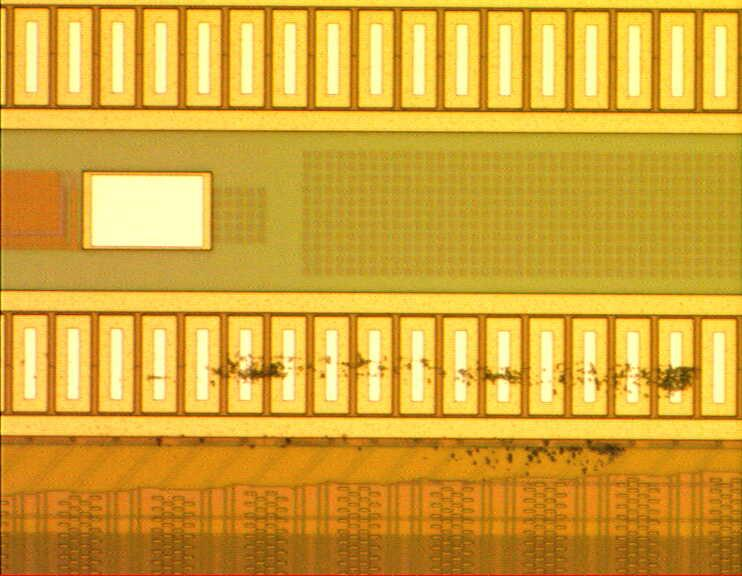SCRATCH: (27, 350, 704, 478)
